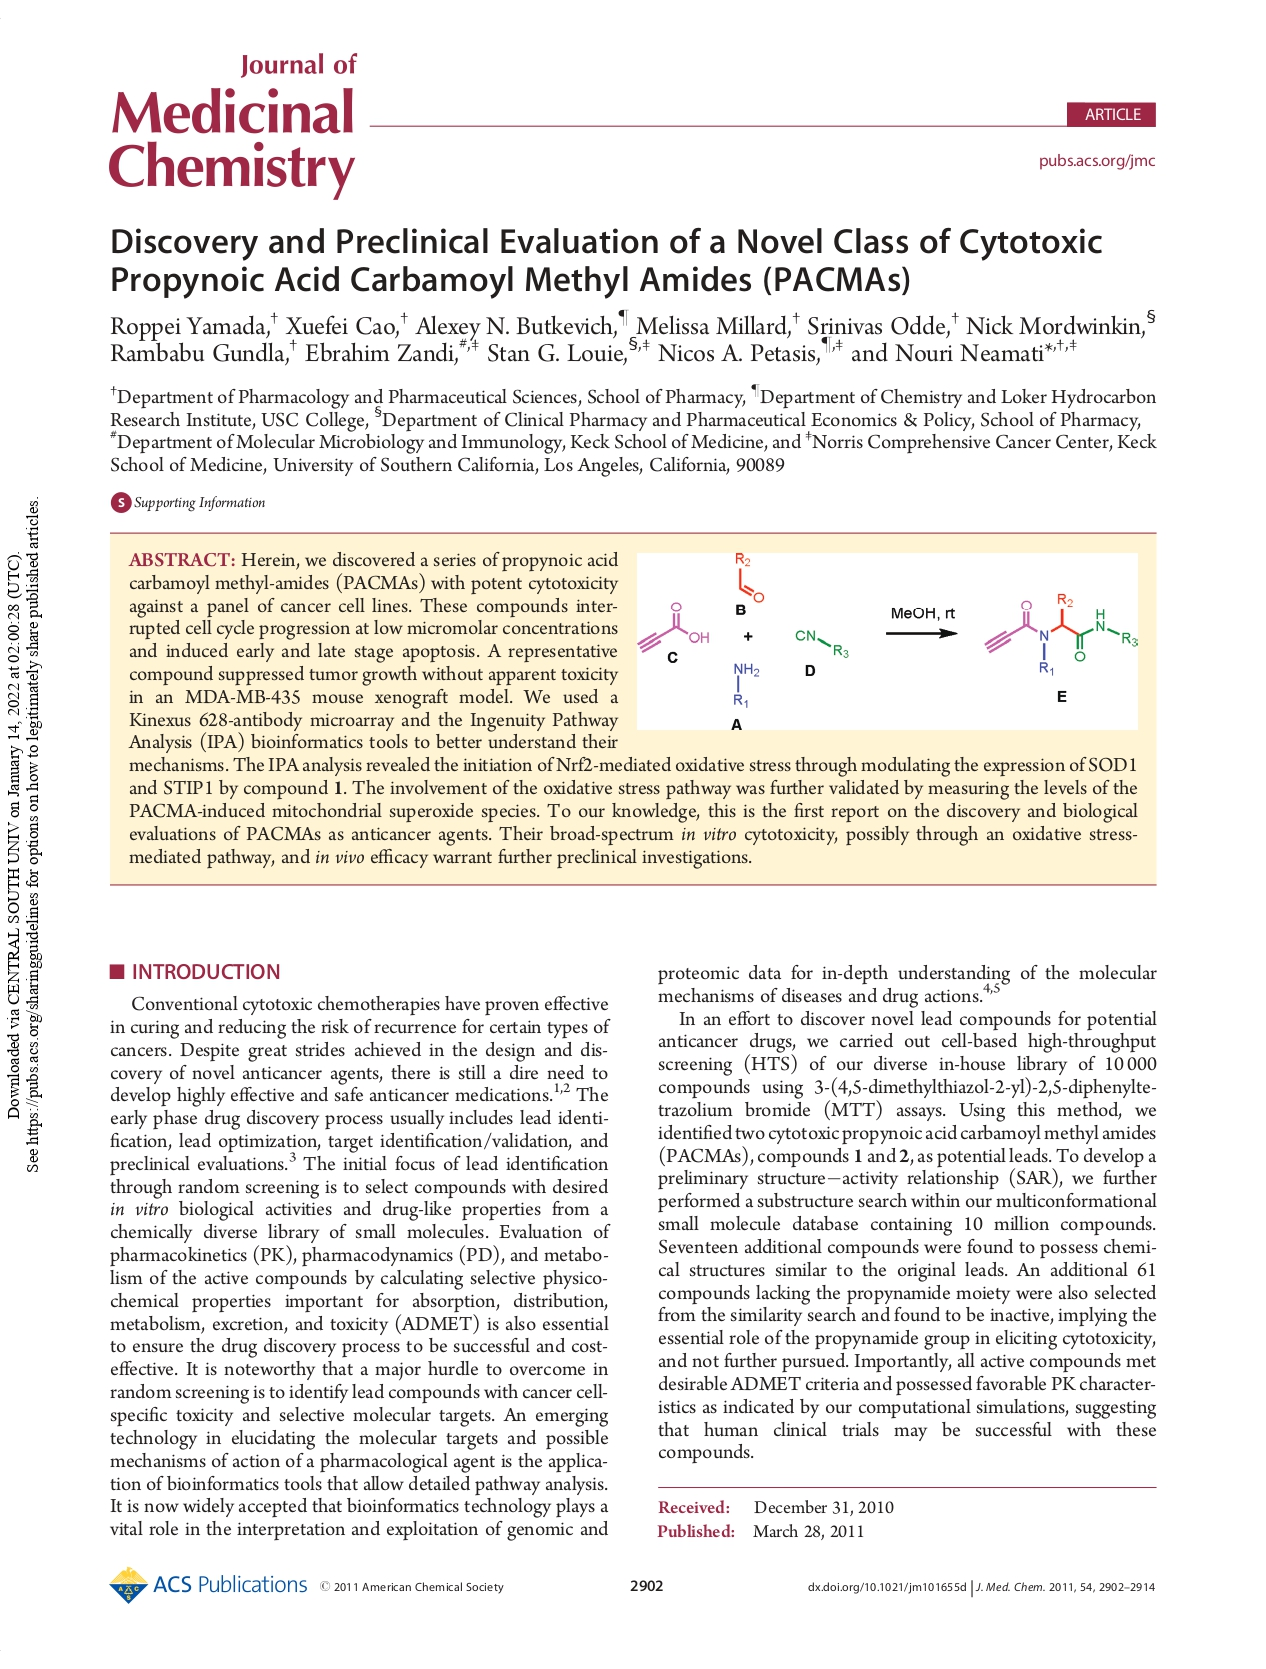exist_molecular: (985, 589, 1140, 678), (633, 596, 711, 654), (789, 621, 850, 660), (729, 551, 769, 605), (729, 656, 761, 710)
